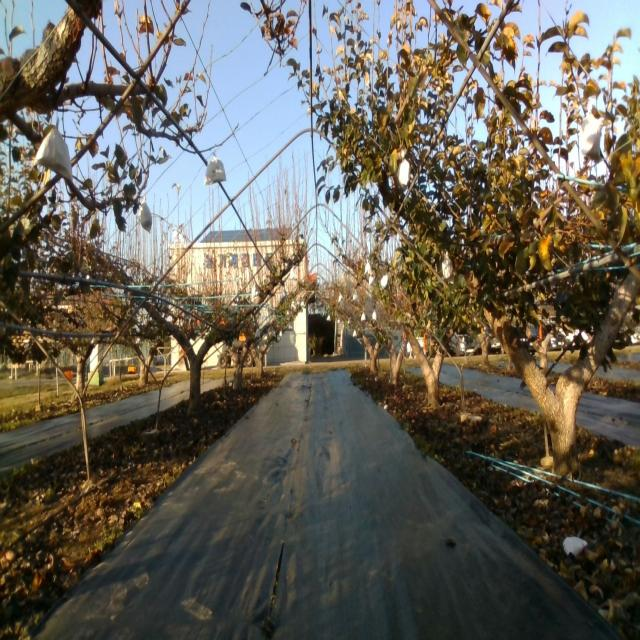pearbags: (32, 128, 72, 178), (578, 108, 604, 162), (204, 150, 226, 186), (138, 196, 152, 232), (396, 158, 411, 191), (441, 256, 454, 284)
